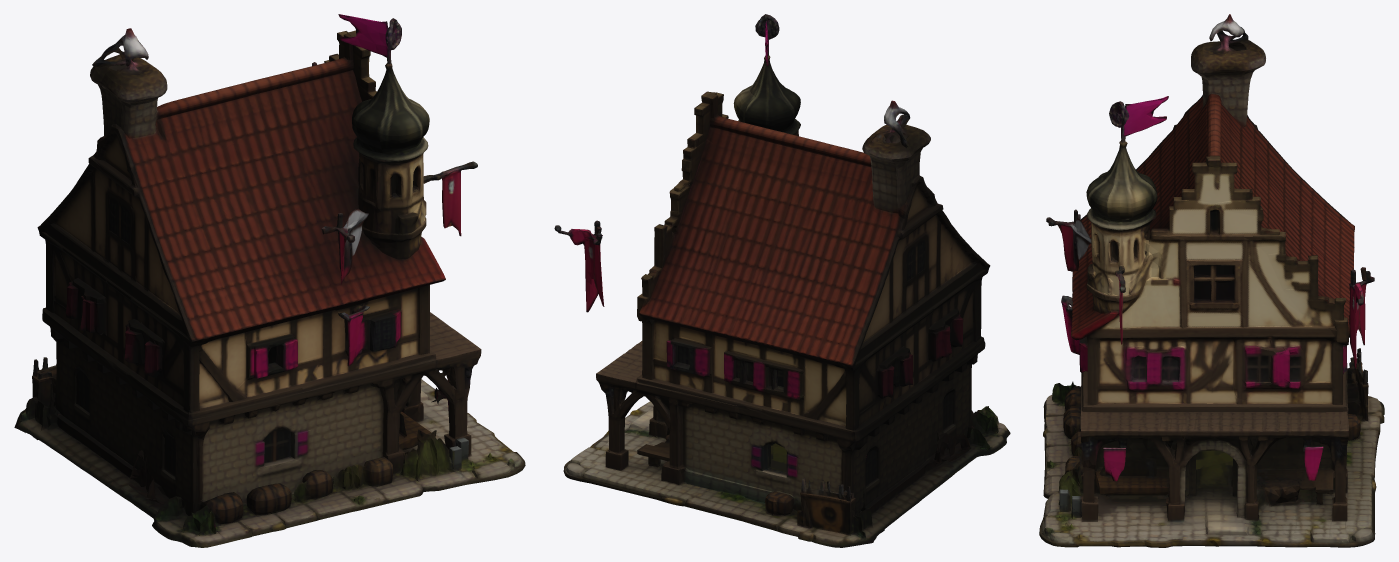
Rendered from model_trellis.glb.
The picture shows the model from 3 angles, left to right: view 1: azimuth 30°, elevation 25°; view 2: azimuth 150°, elevation 25°; view 3: azimuth 270°, elevation 25°; orthographic projection. The views are drawn at different scales.
Parts seen in each view (by area): view 1: world; view 2: world; view 3: world.
Boxes of the visible parts, <box> form: world: <box>14,14,525,547</box>; world: <box>554,14,1010,547</box>; world: <box>1039,14,1384,547</box>.
Bounding box in the file's own units: 0.8411 × 0.9989 × 0.7782.
Materials: 1 (1 with a texture image).
